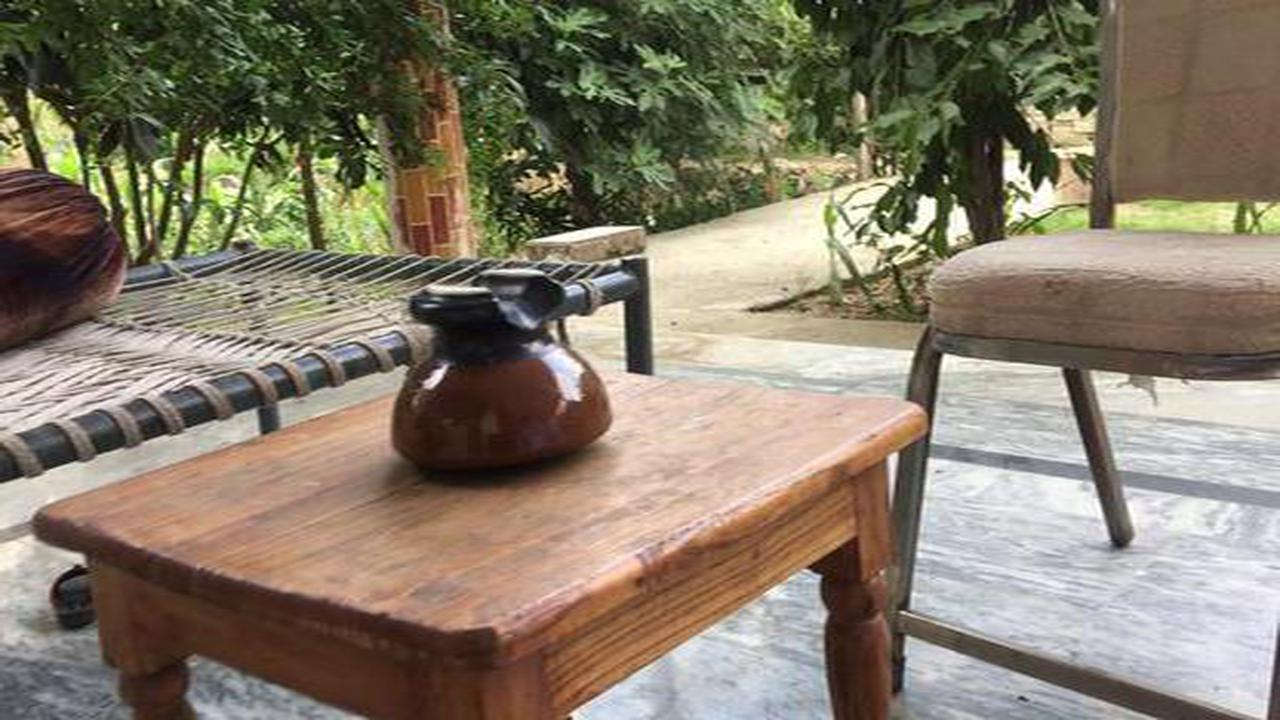insulator_pin: (370, 253, 625, 494)
